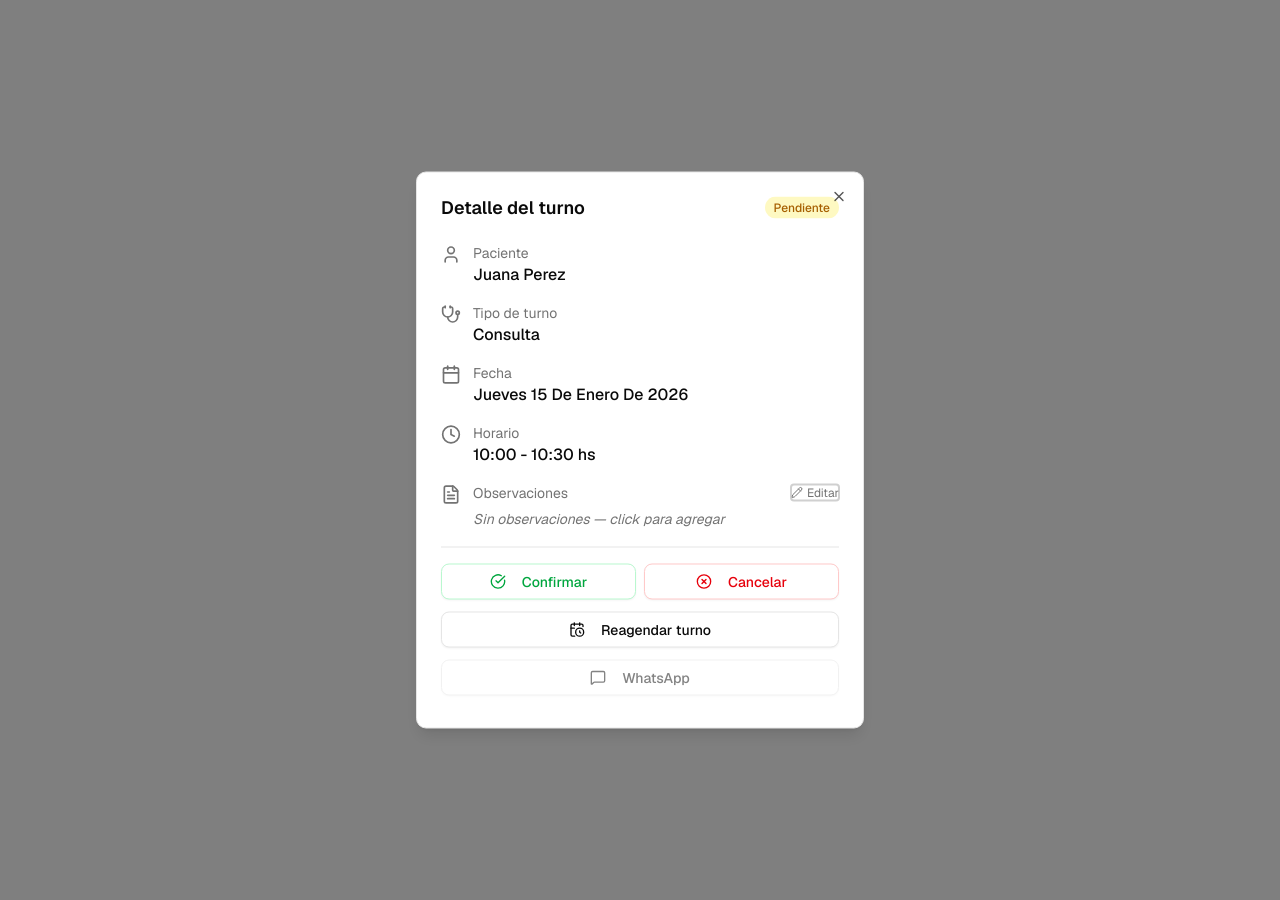
Test: AppointmentDetailModal — atajo de WhatsApp del detalle de turno (CR-01) › paciente SIN teléfono: el botón está en el documento, deshabilitado, y el motivo de MOTIVO_SIN_TELEFONO es alcanzable en hover
expect the button "WhatsApp" is disabled: met, box [441,660,839,696]
Hover over the element "WhatsApp" at (640, 680), box [441,670,839,690]
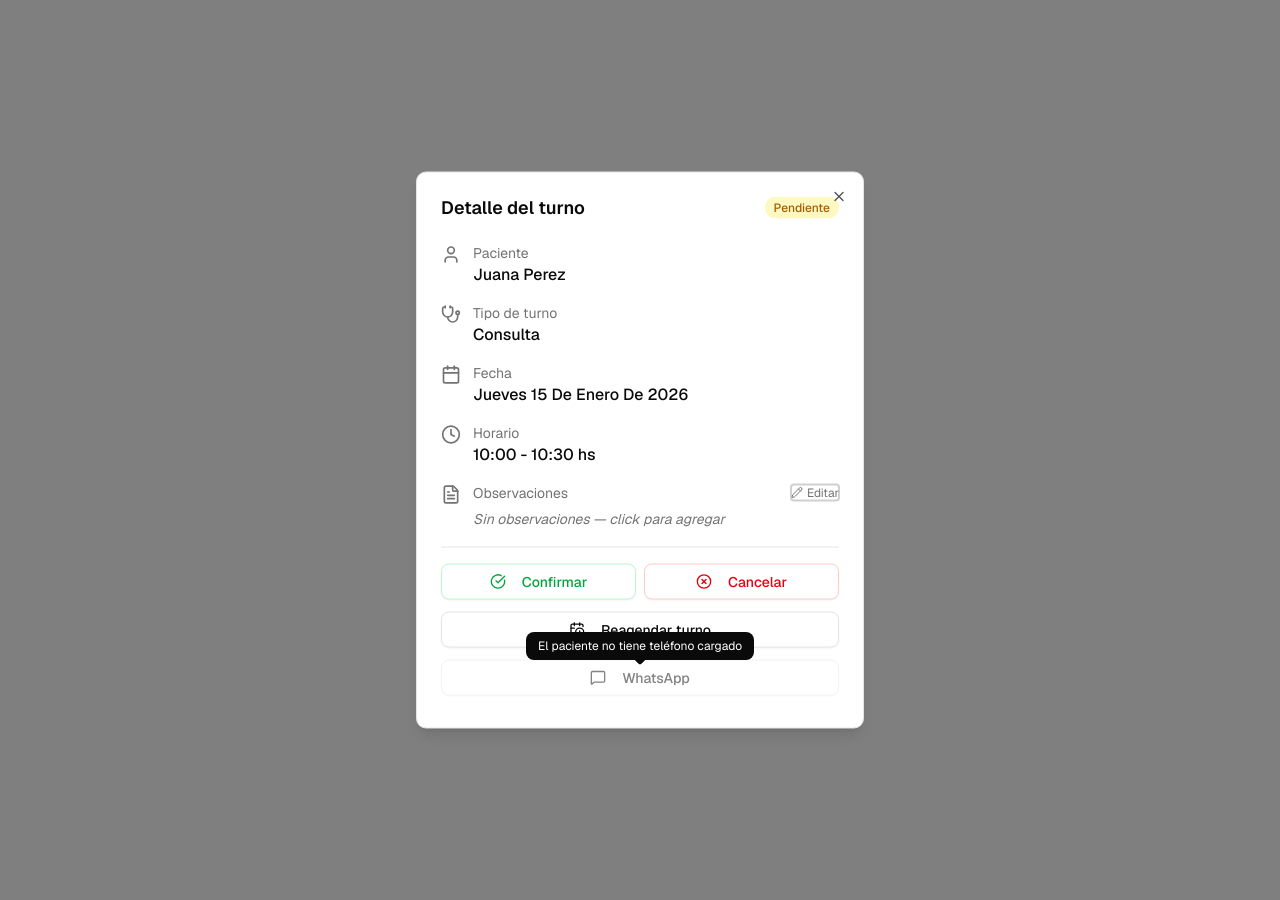
expect the tooltip "El paciente no tiene teléfono cargado" is shown: met, box [526,632,754,660]
